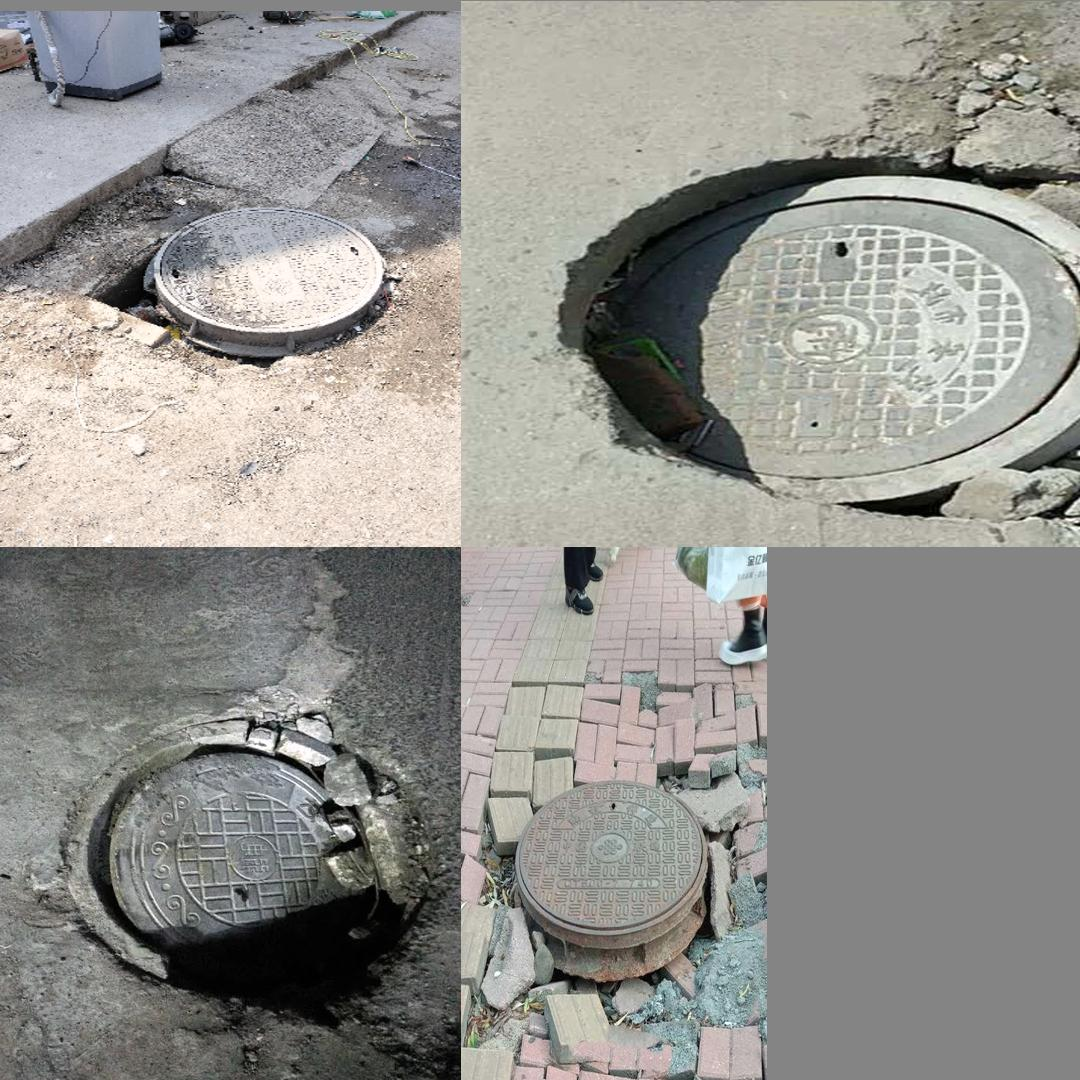circle: (560, 43, 1080, 513), (48, 716, 445, 1007), (466, 694, 763, 1080), (108, 197, 397, 363)
